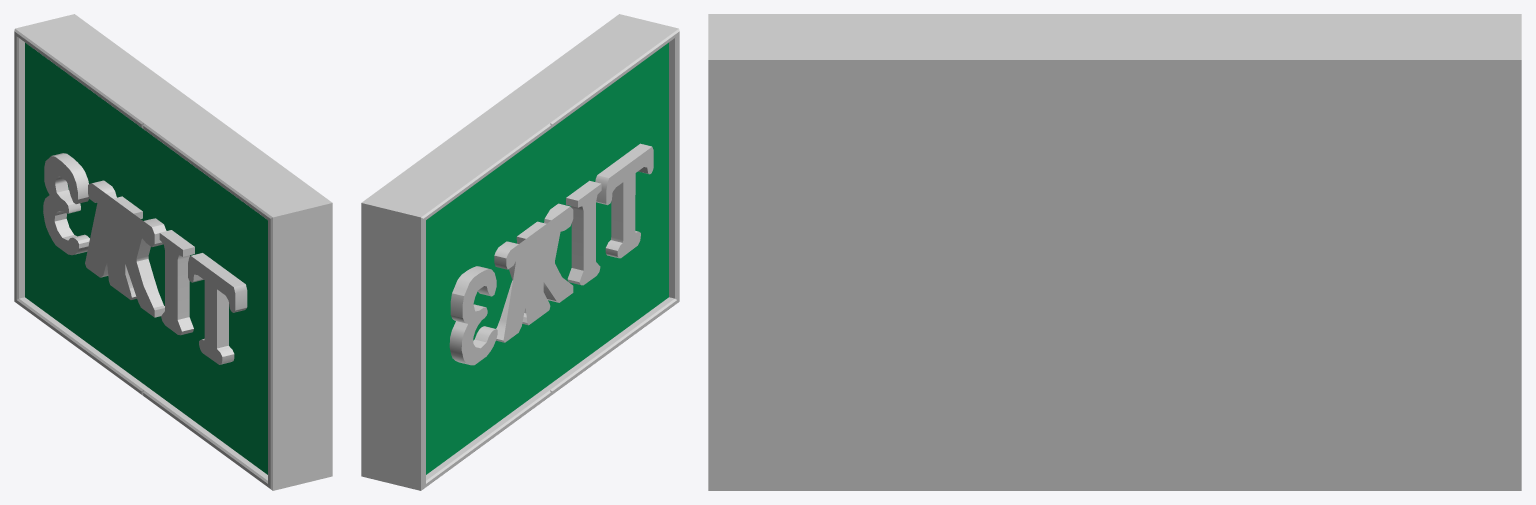
Rendered from SM_ExitSign.fbx.
The picture shows the model from 3 angles, left to right: view 1: azimuth 30°, elevation 25°; view 2: azimuth 150°, elevation 25°; view 3: azimuth 270°, elevation 25°; orthographic projection. The views are drawn at different scales.
Visible parts, largest first — view 1: Sign, Text; view 2: Sign, Text; view 3: Sign.
Boxes of the visible parts, x1,y1,x2,y2 form: Sign: (14,14,332,490); Text: (43,153,247,364); Sign: (361,14,679,490); Text: (449,143,653,365); Sign: (708,14,1521,490).
Bounding box in the file's own units: 1.22 × 4.85 × 8.29.
